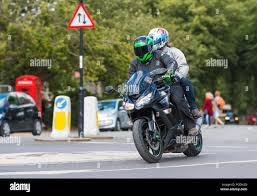motorcycle: (120, 70, 205, 164)
